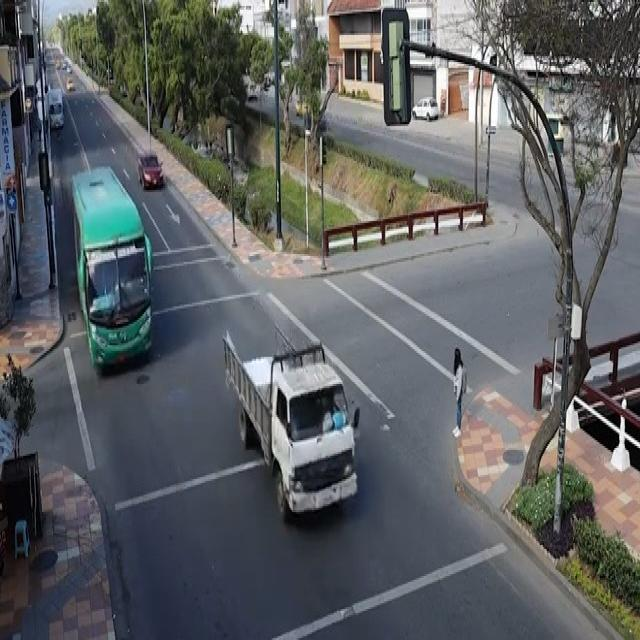BUS: (74, 175, 156, 370)
TRUCK: (222, 325, 357, 515)
